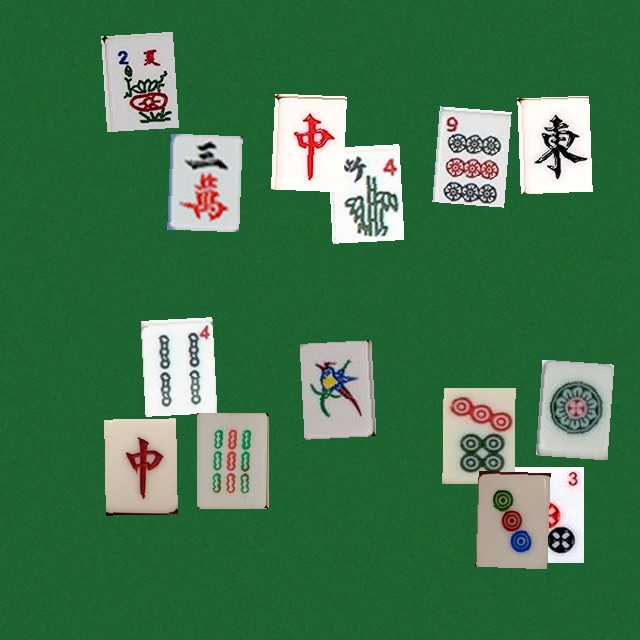tile: (299, 340, 371, 436), (104, 418, 176, 514), (101, 31, 173, 127), (167, 133, 239, 229), (327, 144, 399, 240), (511, 466, 583, 562), (442, 387, 514, 483), (535, 359, 607, 455), (517, 95, 589, 191), (140, 317, 212, 413), (432, 106, 504, 202), (270, 93, 342, 189), (196, 412, 268, 508), (475, 470, 547, 566)
